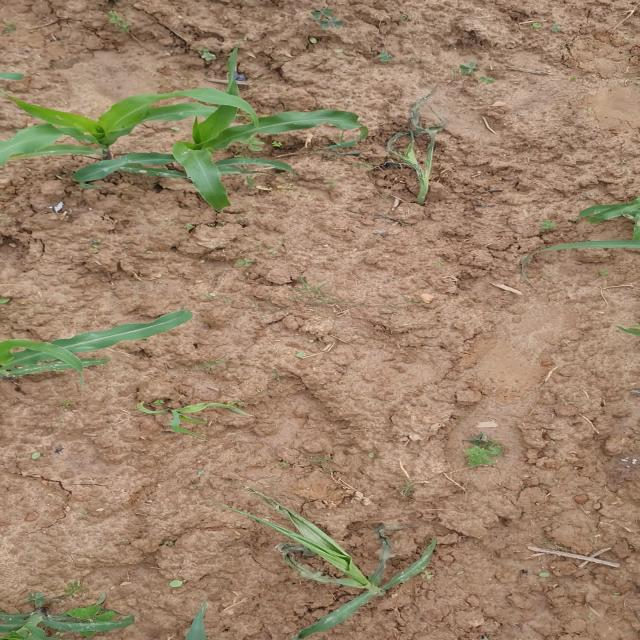maize: (0, 64, 347, 208), (231, 512, 427, 618), (0, 311, 139, 375)
weed: (2, 581, 118, 640), (154, 386, 267, 442), (376, 113, 451, 192), (545, 202, 640, 262), (436, 433, 510, 480)
